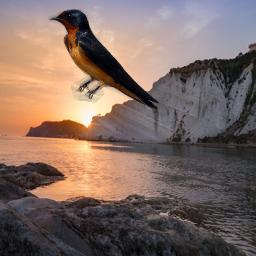Swallow: (48, 9, 160, 112)
